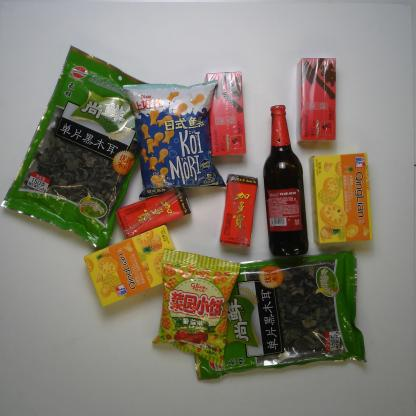Alcohol: (262, 105, 312, 257)
Dessert: (81, 221, 184, 309), (307, 148, 374, 248)
Dried Food: (1, 43, 166, 252), (192, 247, 367, 382)
Drink: (111, 180, 192, 239), (219, 171, 259, 249)
Instant Drink: (294, 53, 339, 144), (202, 70, 248, 159)
Puffed Food: (122, 78, 230, 201), (151, 247, 242, 369)
